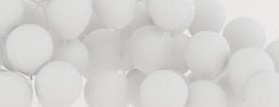Balloon: (5, 25, 52, 76), (181, 29, 228, 79), (34, 63, 81, 107), (138, 70, 187, 107), (84, 70, 130, 107), (45, 1, 89, 38), (145, 1, 195, 29), (90, 1, 135, 29)
